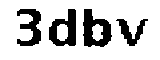3: (13, 5, 45, 49)
b: (83, 6, 114, 51)
d: (50, 6, 79, 50)
v: (115, 15, 150, 48)
